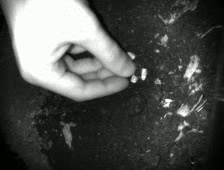corn: (137, 65, 149, 83), (124, 49, 137, 61), (128, 72, 140, 84)
